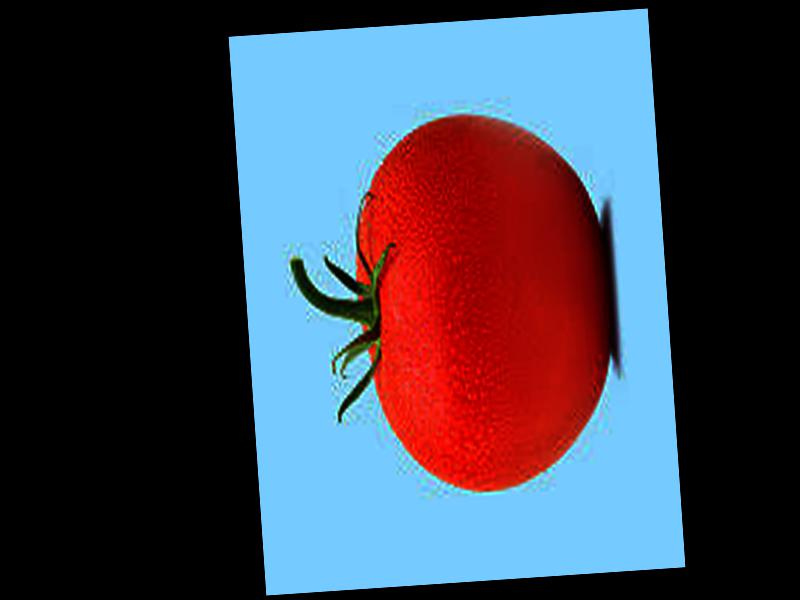Tomato: (348, 108, 618, 499)
